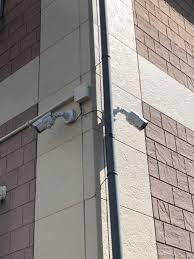tutu: (120, 101, 152, 134), (30, 105, 61, 137)
